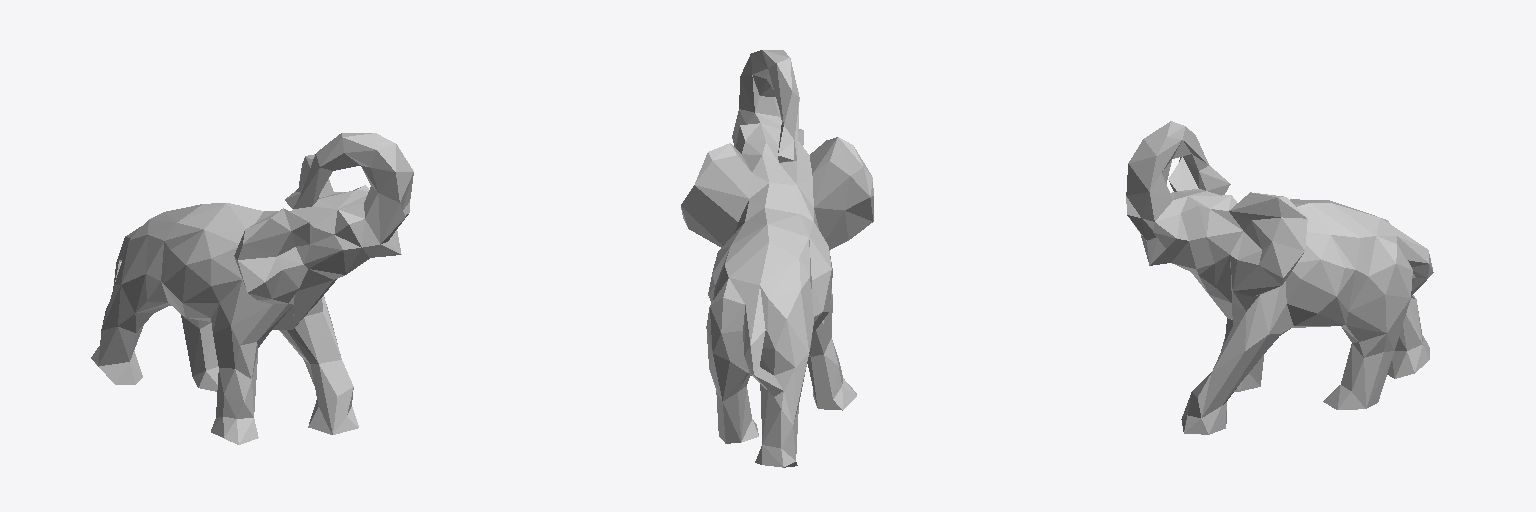
Rendered from elephant.obj.
The picture shows the model from 3 angles: view 1: azimuth 30°, elevation 25°; view 2: azimuth 150°, elevation 25°; view 3: azimuth 270°, elevation 25°; orthographic projection.
Parts seen in each view (by area): view 1: elephant; view 2: elephant; view 3: elephant.
Boxes of the visible parts, box(x1,y1,x2,y2) form: elephant: box(91, 133, 413, 444); elephant: box(681, 50, 873, 467); elephant: box(1126, 121, 1433, 434).
Size of the model in its own units: 5.27 by 8.17 by 7.56.